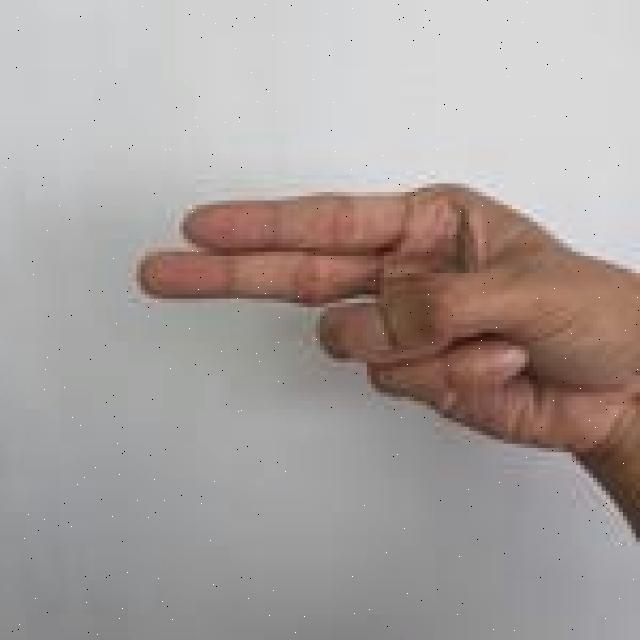H: (128, 167, 640, 555)
